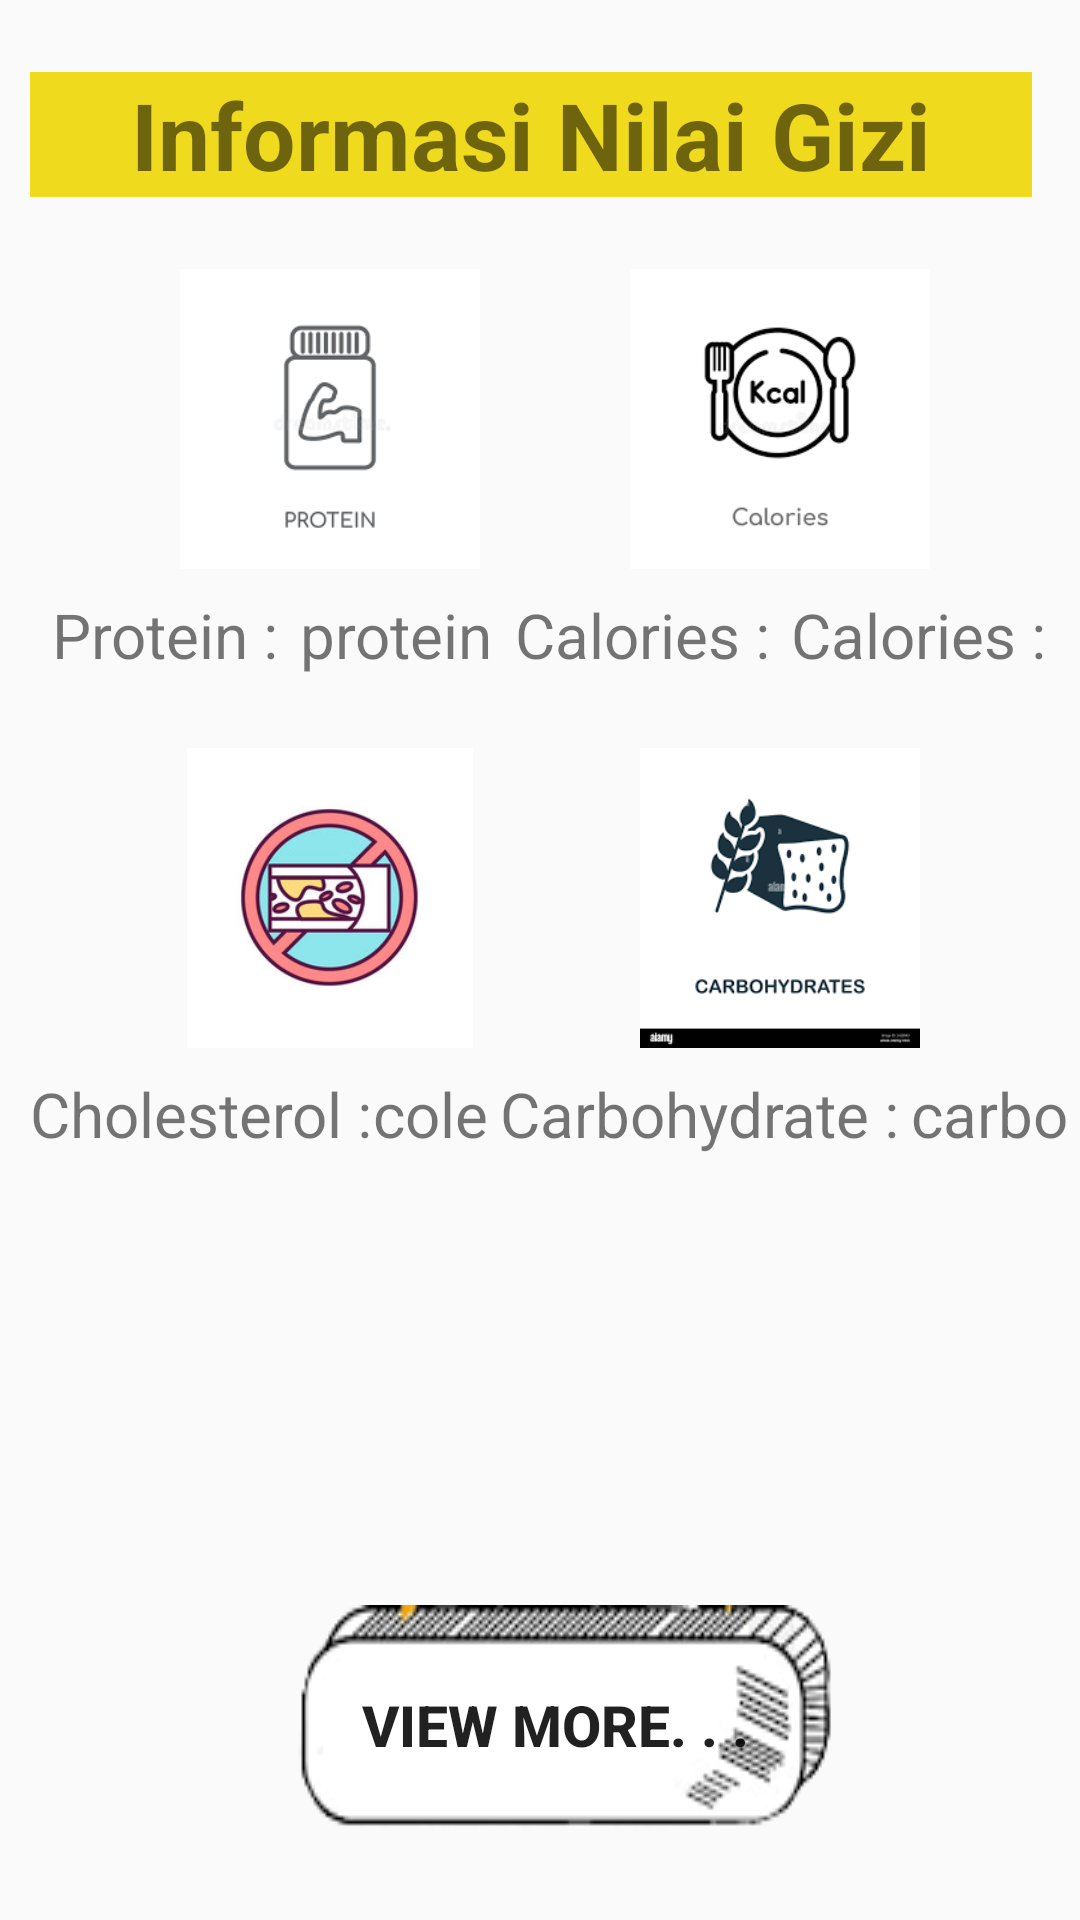

Icon bounding boxes for this 1080×1920 phone screenshot, format (x1, y1, x2, y2):
cho: (241, 809, 418, 986)
